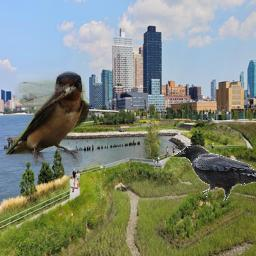Crow: (172, 145, 256, 201)
Swallow: (5, 71, 89, 167)
